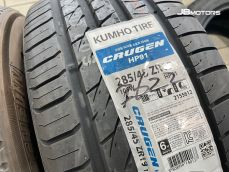new_condition: (22, 1, 229, 171)
